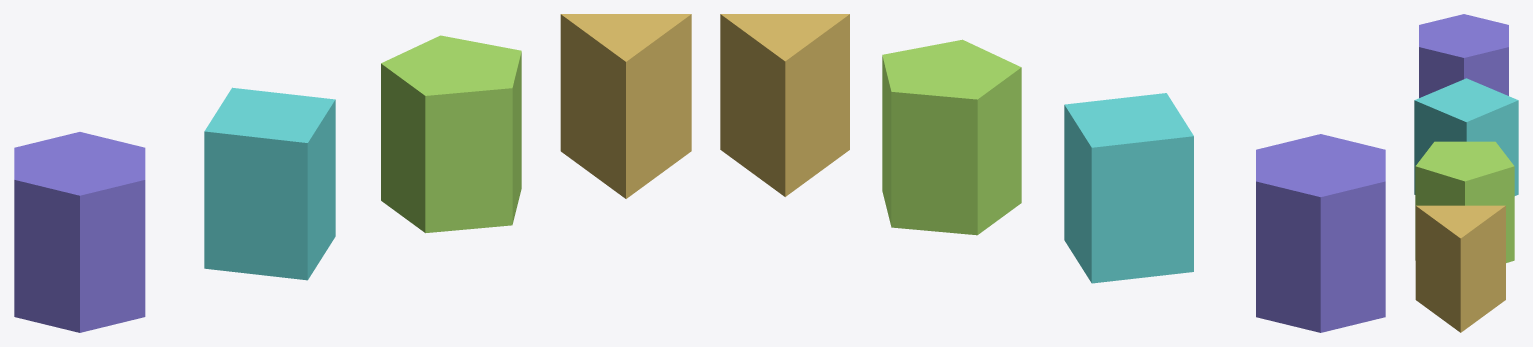
The model's file is prismas.fbx.
3 renders of one model, left to right at view 1: azimuth 30°, elevation 25°; view 2: azimuth 150°, elevation 25°; view 3: azimuth 270°, elevation 25°, orthographic. The views are drawn at different scales.
Visible parts, largest first — view 1: pCylinder1, pCylinder4, pCylinder3, pCylinder2; view 2: pCylinder1, pCylinder4, pCylinder3, pCylinder2; view 3: pCylinder2, pCylinder1, pCylinder3, pCylinder4.
Boxes of the visible parts, x1,y1,x2,y2 form: pCylinder1: (381, 35, 521, 233); pCylinder4: (14, 132, 145, 332); pCylinder3: (204, 87, 335, 280); pCylinder2: (560, 14, 691, 198); pCylinder1: (882, 39, 1021, 235); pCylinder4: (1256, 134, 1385, 332); pCylinder3: (1064, 93, 1193, 283); pCylinder2: (720, 14, 849, 196); pCylinder2: (1415, 205, 1505, 332); pCylinder1: (1415, 141, 1514, 262); pCylinder3: (1414, 78, 1518, 195); pCylinder4: (1419, 14, 1508, 97).
Bounding box in the file's own units: 10.29 × 2.07 × 2.
